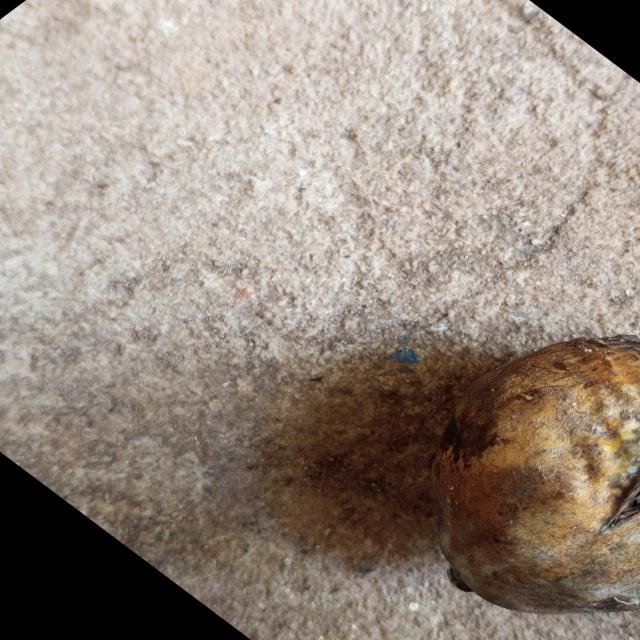damaged: (433, 335, 640, 613)
